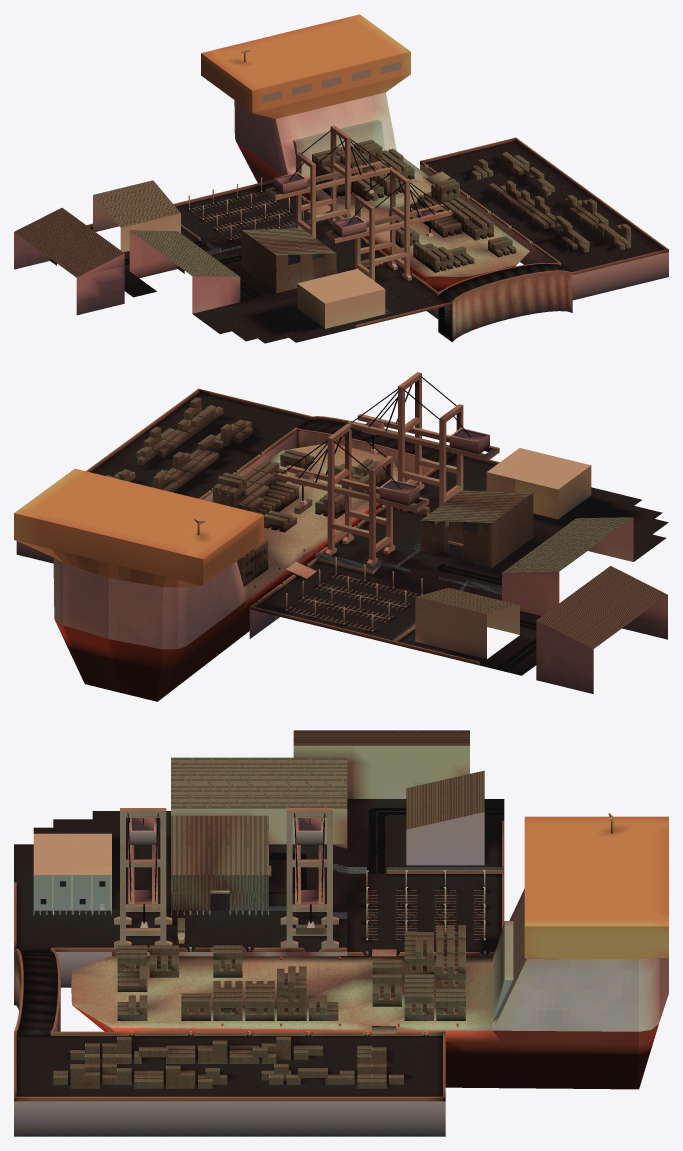
Rendered from dock.gltf.
3 renders of one model, top to bottom at view 1: azimuth 30°, elevation 25°; view 2: azimuth 150°, elevation 25°; view 3: azimuth 270°, elevation 25°, orthographic. The views are drawn at different scales.
Parts seen in each view (by area): view 1: ship-col, pont-col, structure-col.001, structure-col, cabin-col.001, cabin-col, wall-col.366, wall-col.367, wall-col.365, wall-col.368, wall-col.364; view 2: ship-col, structure-col, structure-col.001, pont-col, cabin-col, cabin-col.001, wall-col.290, wall-col.274, wall-col.276, wall-col.277, wall-col.288, wall-col.278 (+8 smaller); view 3: ship-col, structure-col.001, structure-col, pont-col, wall-col.396, wall-col.398, wall-col.379, wall-col.397, wall-col.399, wall-col.193, wall-col.195, wall-col.199 (+36 smaller).
Part boxes in pixels (<box>): ship-col: <box>201,14,529,291</box>; pont-col: <box>438,263,572,342</box>; structure-col.001: <box>324,168,452,281</box>; structure-col: <box>265,125,393,237</box>; cabin-col.001: <box>332,215,366,237</box>; cabin-col: <box>273,172,307,194</box>; wall-col.366: <box>117,186,156,221</box>; wall-col.367: <box>129,183,168,218</box>; wall-col.365: <box>105,189,144,224</box>; wall-col.368: <box>141,180,180,215</box>; wall-col.364: <box>93,192,132,227</box>; ship-col: <box>14,443,405,701</box>; structure-col: <box>277,423,429,566</box>; structure-col.001: <box>347,372,499,506</box>; pont-col: <box>296,419,454,482</box>; cabin-col: <box>379,479,419,505</box>; cabin-col.001: <box>449,428,489,454</box>; wall-col.290: <box>545,608,609,642</box>; wall-col.274: <box>570,590,634,624</box>; wall-col.276: <box>586,578,650,612</box>; wall-col.277: <box>594,572,659,606</box>; wall-col.288: <box>561,596,625,630</box>; wall-col.278: <box>602,566,667,600</box>; ship-col: <box>71,816,668,1089</box>; structure-col.001: <box>114,808,172,947</box>; structure-col: <box>280,808,338,947</box>; pont-col: <box>14,952,60,1034</box>; wall-col.396: <box>190,815,210,874</box>; wall-col.398: <box>229,815,249,874</box>; wall-col.379: <box>171,815,190,874</box>; wall-col.397: <box>210,815,229,874</box>; wall-col.399: <box>249,815,268,874</box>; wall-col.193: <box>229,757,249,808</box>; wall-col.195: <box>190,757,210,808</box>; wall-col.199: <box>288,757,308,807</box>.
Size of what is drawn, in the model's own units: 328 by 96.13 by 267.
16 materials, 14 textured.
